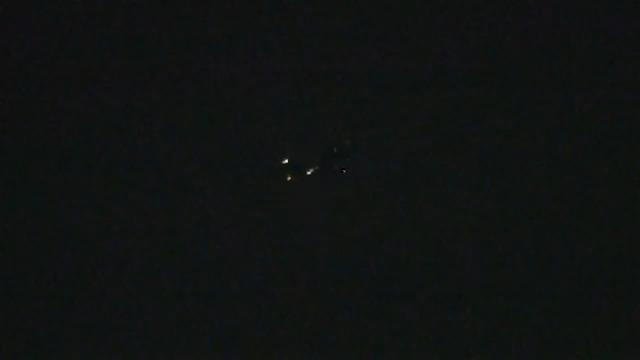Plane: (260, 151, 324, 188)
